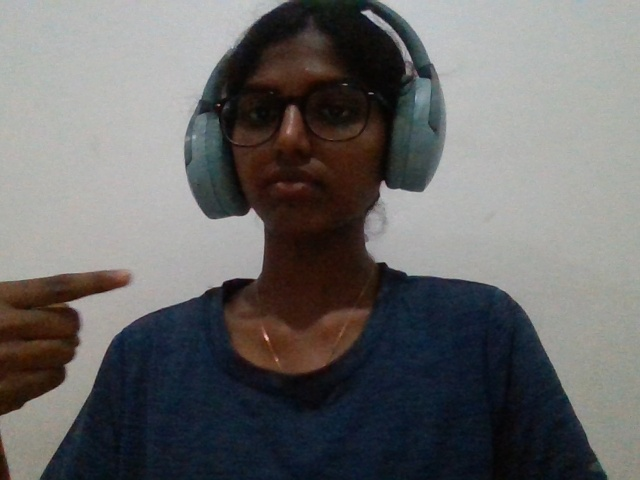Me: (3, 248, 174, 442)
